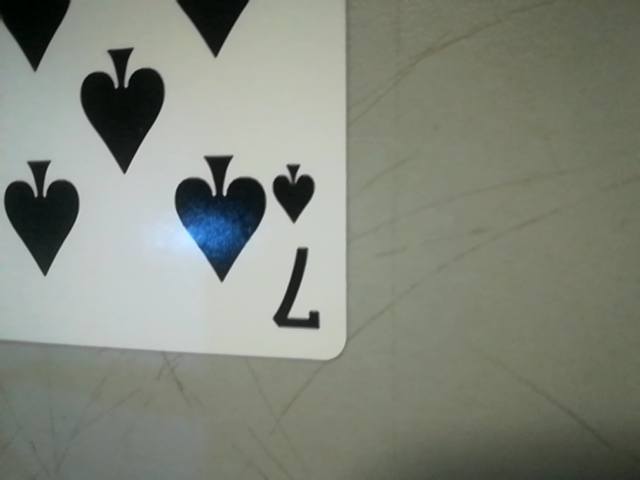ht 7: (259, 148, 337, 355)
